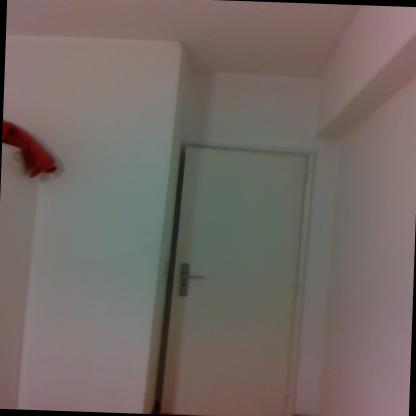closed: (136, 126, 336, 414)
